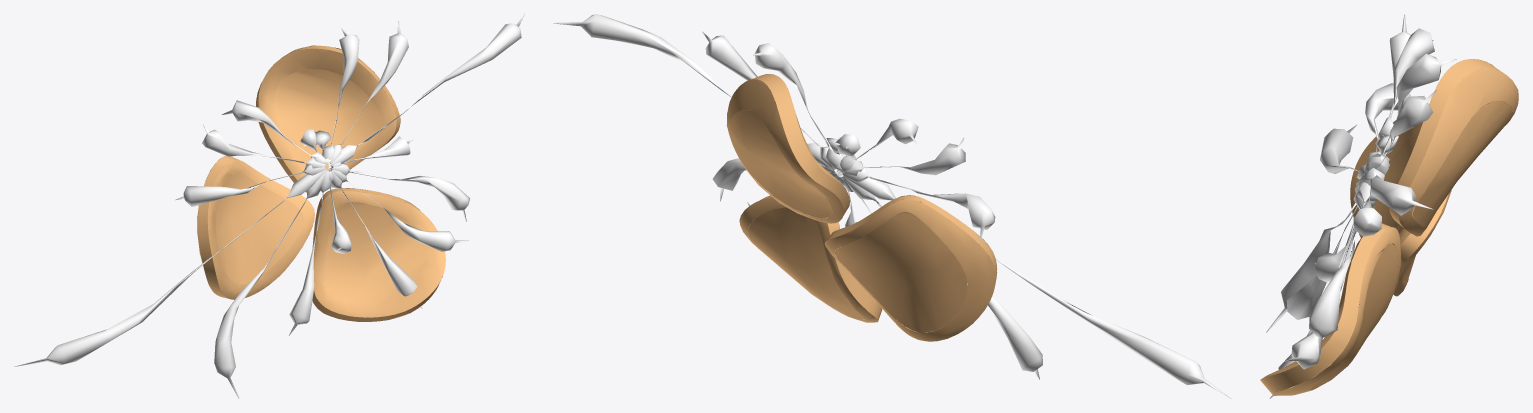
The model's file is add-visual-flower-1.glb.
The picture shows the model from 3 angles, left to right: view 1: azimuth 30°, elevation 25°; view 2: azimuth 150°, elevation 25°; view 3: azimuth 270°, elevation 25°; orthographic projection. The views are drawn at different scales.
Parts seen in each view (by area): view 1: Hair.016; view 2: Hair.016; view 3: Hair.016.
Part boxes in pixels (x1,y1,x2,y2): Hair.016: (14, 14, 524, 398); Hair.016: (553, 14, 1231, 398); Hair.016: (1260, 14, 1518, 398).
Bounding box in the file's own units: 5.82 × 2.91 × 1.73.
